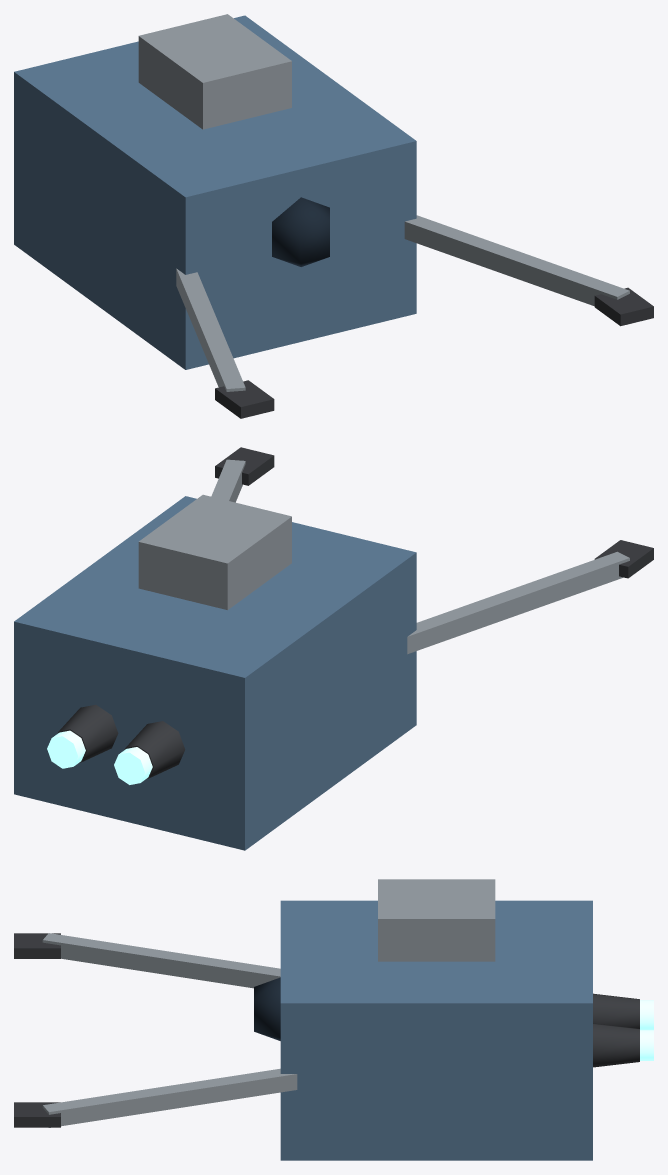
Rendered from space_ship_builder_drone_mk5.glb.
3 renders of one model, top to bottom at view 1: azimuth 30°, elevation 25°; view 2: azimuth 150°, elevation 25°; view 3: azimuth 270°, elevation 25°, orthographic. The views are drawn at different scales.
Parts seen in each view (by area): view 1: body, arm_1, arm_0; view 2: body, arm_0, engine_1, engine_0, arm_1; view 3: body, arm_1, arm_0, engine_1, engine_0.
Part boxes in pixels (x1,y1,x2,y2): body: (14, 14, 416, 369); arm_1: (404, 215, 653, 326); arm_0: (176, 268, 274, 418); body: (14, 494, 416, 850); arm_0: (407, 540, 653, 654); engine_1: (47, 704, 118, 768); engine_0: (114, 721, 185, 784); arm_1: (211, 447, 274, 502); body: (254, 879, 592, 1160); arm_1: (14, 1068, 297, 1127); arm_0: (14, 933, 280, 988); engine_1: (593, 1023, 653, 1067); engine_0: (593, 993, 653, 1029).
Size of what is drawn, in the model's own units: 3.7 by 1.98 by 5.46.
